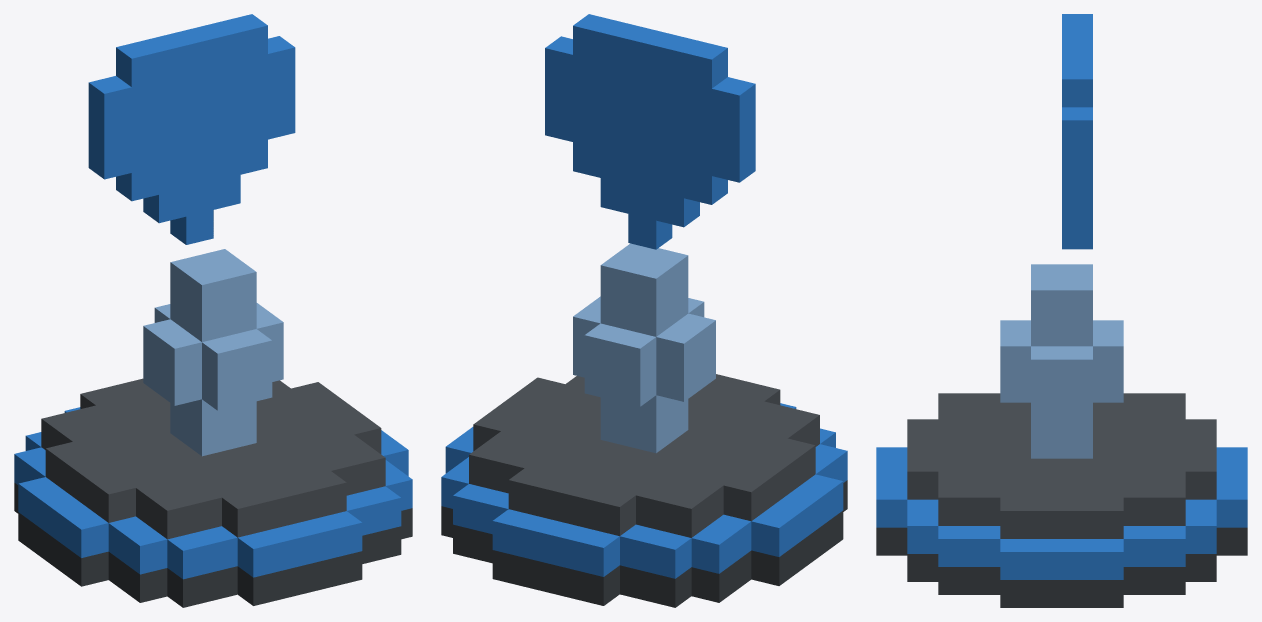
Rendered from prop_buff_shield.glb.
The picture shows the model from 3 angles, left to right: view 1: azimuth 30°, elevation 25°; view 2: azimuth 150°, elevation 25°; view 3: azimuth 270°, elevation 25°; orthographic projection. The views are drawn at different scales.
Parts seen in each view (by area): view 1: prop_buff_shield; view 2: prop_buff_shield; view 3: prop_buff_shield.
Boxes of the visible parts, x1,y1,x2,y2 form: prop_buff_shield: (14, 14, 412, 607); prop_buff_shield: (441, 14, 847, 607); prop_buff_shield: (876, 14, 1247, 607).
Bounding box in the file's own units: 0.6 × 0.85 × 0.6.
